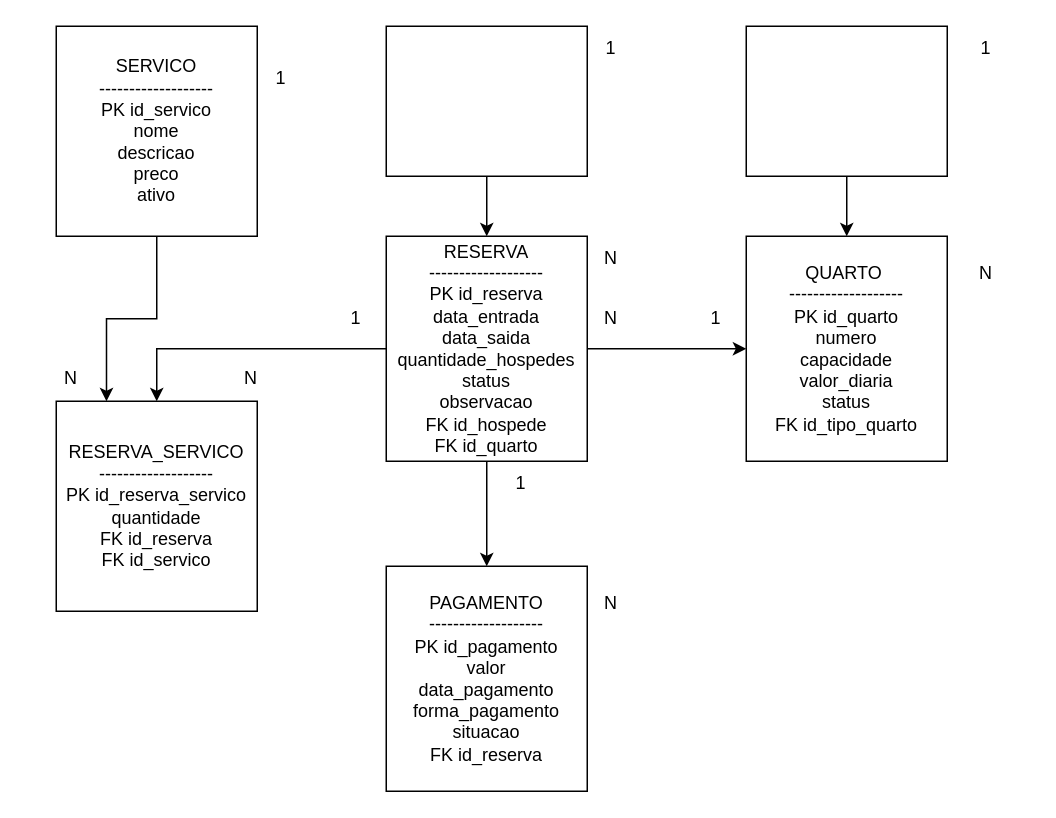
Image size: 1056x818. Some labels were removed from this diagram. The centre of each missing label's shape, as x and y in pixels:
HOSPEDE ------------------- PK id_hospede nome cpf telefone email: the point at 486,100
TIPO_QUARTO ------------------- PK id_tipo_quarto nome descricao: the point at 846,100
